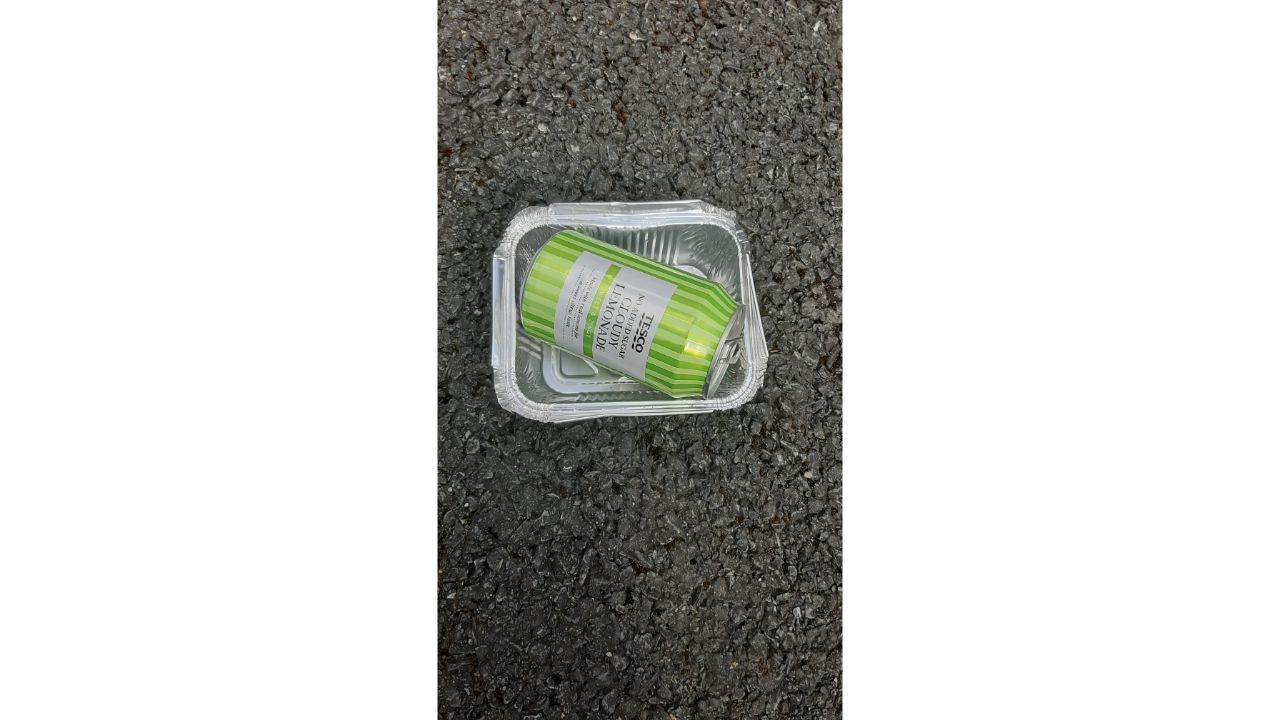Can: (512, 223, 750, 402)
